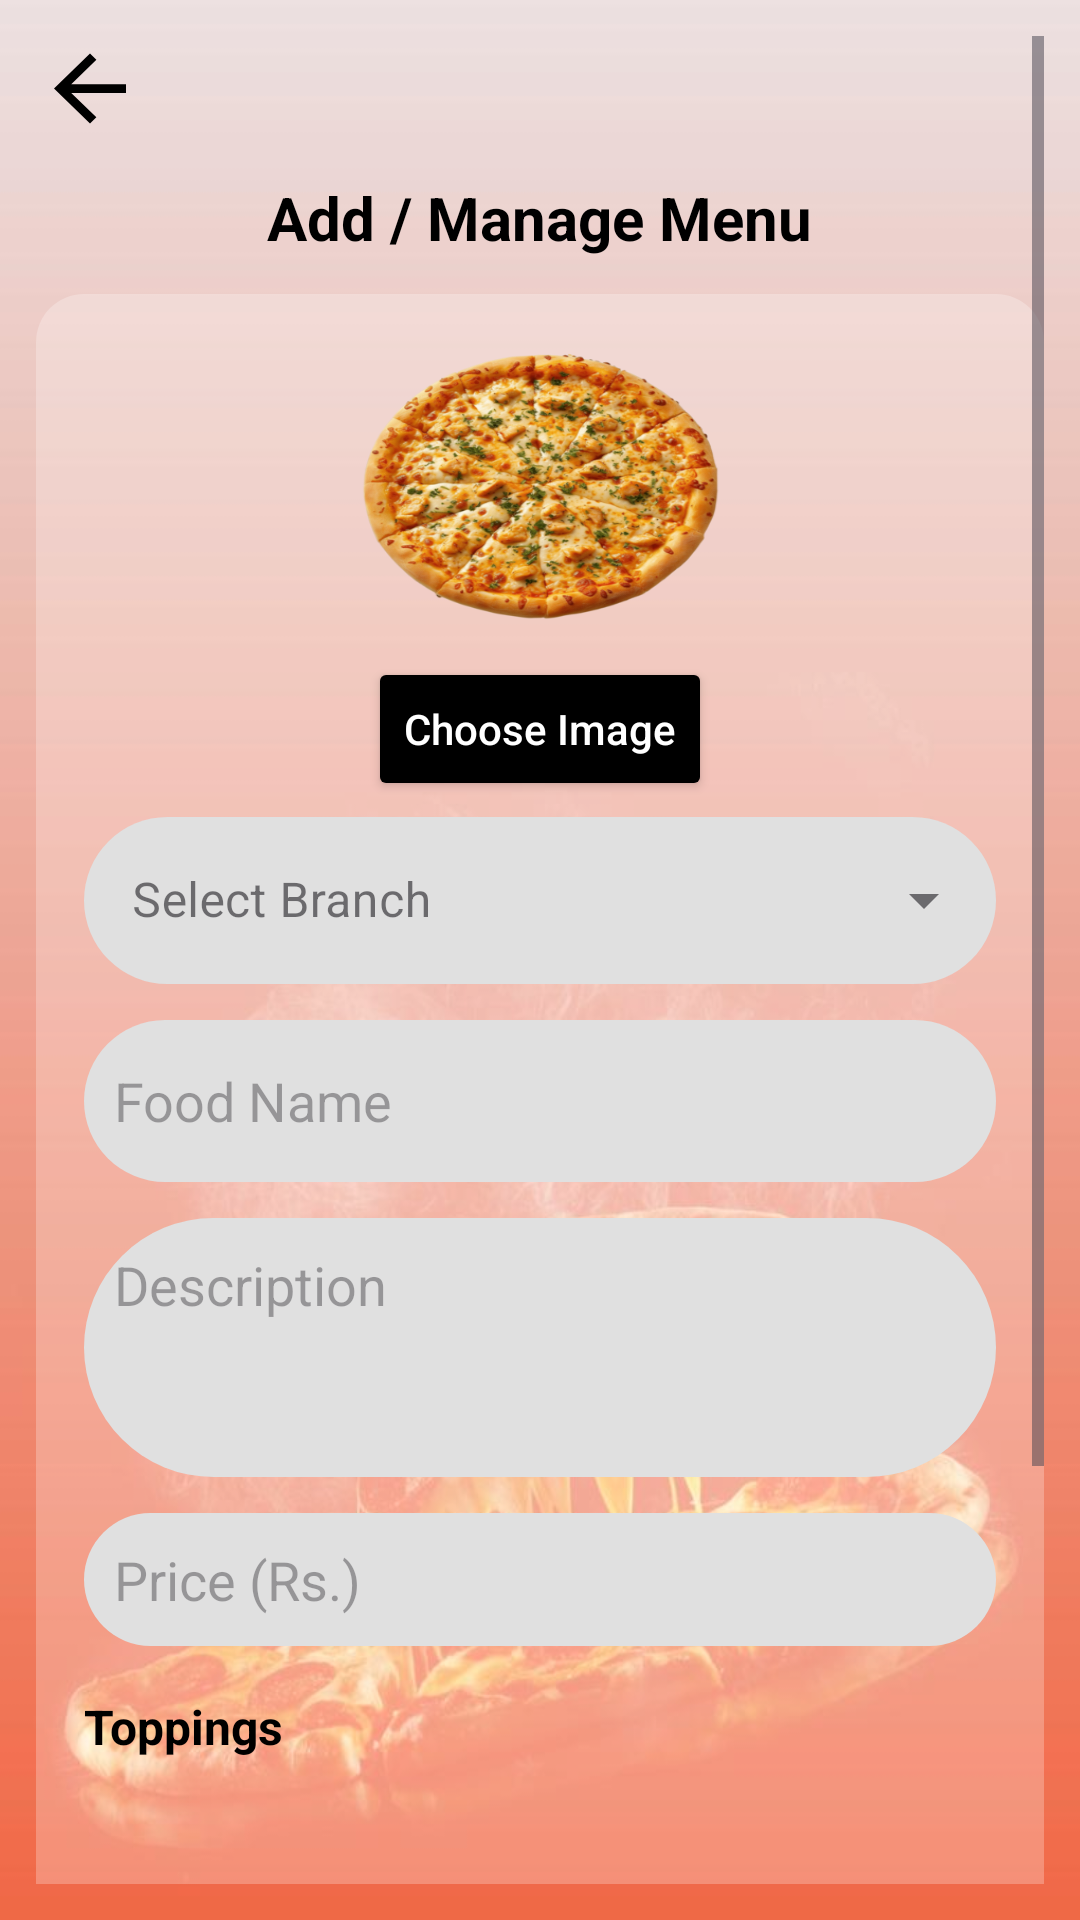

Icon click points for this 1080px×1920px phone screenshot, format (x,y):
Back: (90,88)
Food Image: (541,486)
